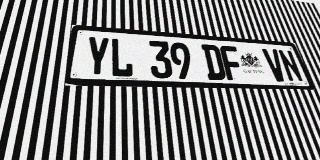3: (149, 40, 173, 79)
9: (169, 42, 194, 79)
D: (201, 44, 227, 80)
F: (219, 45, 245, 81)
L: (110, 38, 134, 78)
N: (277, 49, 304, 82)
V: (262, 48, 289, 82)
Y: (84, 36, 110, 77)
